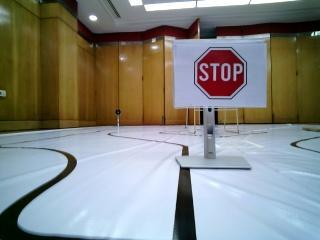stop: (176, 46, 259, 103)
